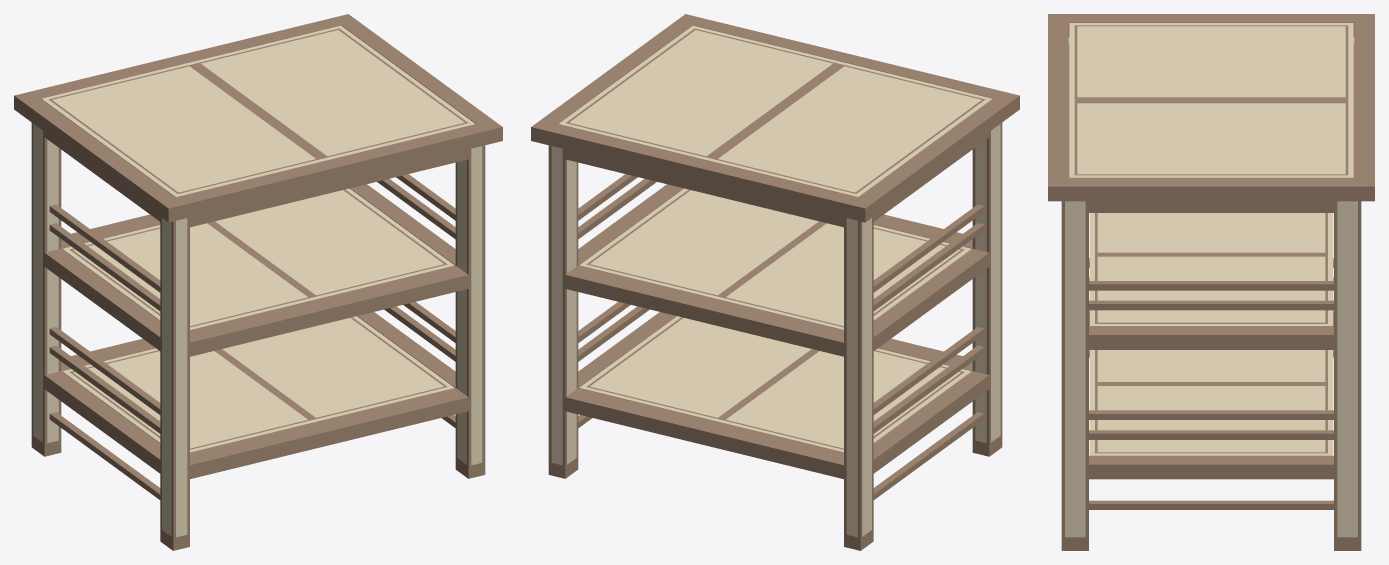
3 views of the same model, side by side, from view 1: azimuth 30°, elevation 25°; view 2: azimuth 150°, elevation 25°; view 3: azimuth 270°, elevation 25° (orthographic). The views are drawn at different scales.
Visible parts, largest first — view 1: P098 Top panel maple field, P099 Top panel maple field, P074 Middle panel maple field, P055 Lower panel maple field, P073 Middle panel maple field, P054 Lower panel maple field, P085 Top front/back border, P041 Lower front/back rail, P060 Middle front/back rail, P087 Top side border, P025 Leg 21 segment 10, P005 Leg 11 segment 10 (+41 smaller); view 2: P098 Top panel maple field, P099 Top panel maple field, P074 Middle panel maple field, P055 Lower panel maple field, P073 Middle panel maple field, P054 Lower panel maple field, P086 Top front/back border, P042 Lower front/back rail, P061 Middle front/back rail, P087 Top side border, P037 Leg 22 segment 12, P017 Leg 12 segment 12 (+41 smaller); view 3: P098 Top panel maple field, P099 Top panel maple field, P074 Middle panel maple field, P055 Lower panel maple field, P073 Middle panel maple field, P054 Lower panel maple field, P029 Leg 21 segment 21, P039 Leg 22 segment 21, P088 Top side border, P044 Lower side rail, P063 Middle side rail, P085 Top front/back border (+31 smaller).
Boxes of the visible parts, bbox=[...] form: P098 Top panel maple field: bbox=[52, 66, 315, 192]; P099 Top panel maple field: bbox=[201, 30, 464, 156]; P074 Middle panel maple field: bbox=[215, 190, 443, 295]; P055 Lower panel maple field: bbox=[222, 318, 443, 417]; P073 Middle panel maple field: bbox=[73, 223, 307, 325]; P054 Lower panel maple field: bbox=[73, 351, 307, 448]; P085 Top front/back border: bbox=[159, 120, 502, 222]; P041 Lower front/back rail: bbox=[190, 388, 468, 478]; P060 Middle front/back rail: bbox=[190, 265, 468, 356]; P087 Top side border: bbox=[23, 98, 175, 215]; P025 Leg 21 segment 10: bbox=[471, 146, 482, 465]; P005 Leg 11 segment 10: bbox=[176, 218, 187, 537]; P098 Top panel maple field: bbox=[718, 66, 981, 192]; P099 Top panel maple field: bbox=[569, 30, 832, 156]; P074 Middle panel maple field: bbox=[590, 190, 818, 295]; P055 Lower panel maple field: bbox=[590, 318, 811, 417]; P073 Middle panel maple field: bbox=[726, 223, 960, 325]; P054 Lower panel maple field: bbox=[726, 351, 960, 448]; P086 Top front/back border: bbox=[531, 120, 874, 222]; P042 Lower front/back rail: bbox=[565, 388, 843, 478]; P061 Middle front/back rail: bbox=[565, 265, 843, 356]; P087 Top side border: bbox=[858, 98, 1010, 215]; P037 Leg 22 segment 12: bbox=[551, 146, 562, 465]; P017 Leg 12 segment 12: bbox=[846, 218, 857, 537]; P098 Top panel maple field: bbox=[1077, 26, 1345, 97]; P099 Top panel maple field: bbox=[1077, 103, 1345, 174]; P074 Middle panel maple field: bbox=[1097, 256, 1325, 322]; P055 Lower panel maple field: bbox=[1097, 386, 1325, 452]; P073 Middle panel maple field: bbox=[1097, 213, 1325, 252]; P054 Lower panel maple field: bbox=[1097, 350, 1325, 381]; P029 Leg 21 segment 21: bbox=[1065, 201, 1085, 537]; P039 Leg 22 segment 21: bbox=[1337, 201, 1357, 537]; P088 Top side border: bbox=[1068, 178, 1354, 201]; P044 Lower side rail: bbox=[1089, 456, 1333, 479]; P063 Middle side rail: bbox=[1089, 326, 1333, 349]; P085 Top front/back border: bbox=[1048, 14, 1068, 201].
Bounding box in the file's own units: 0.6 × 0.6 × 0.48.
